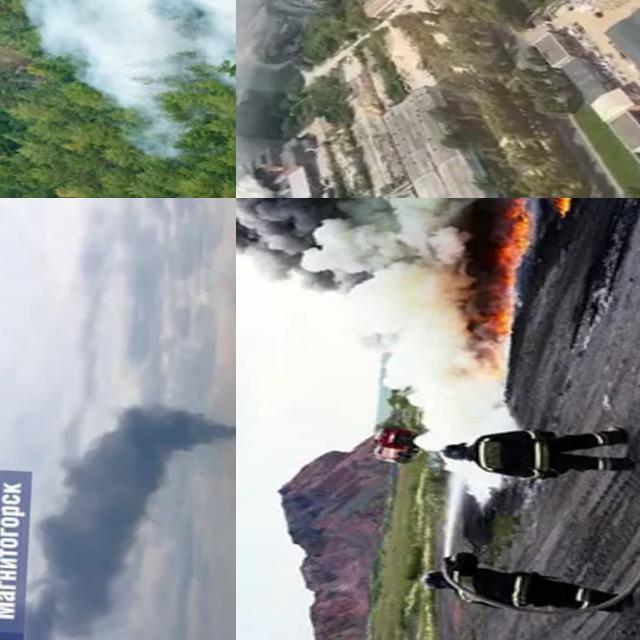smoke: (26, 399, 236, 640), (0, 0, 236, 163), (236, 198, 499, 316)
